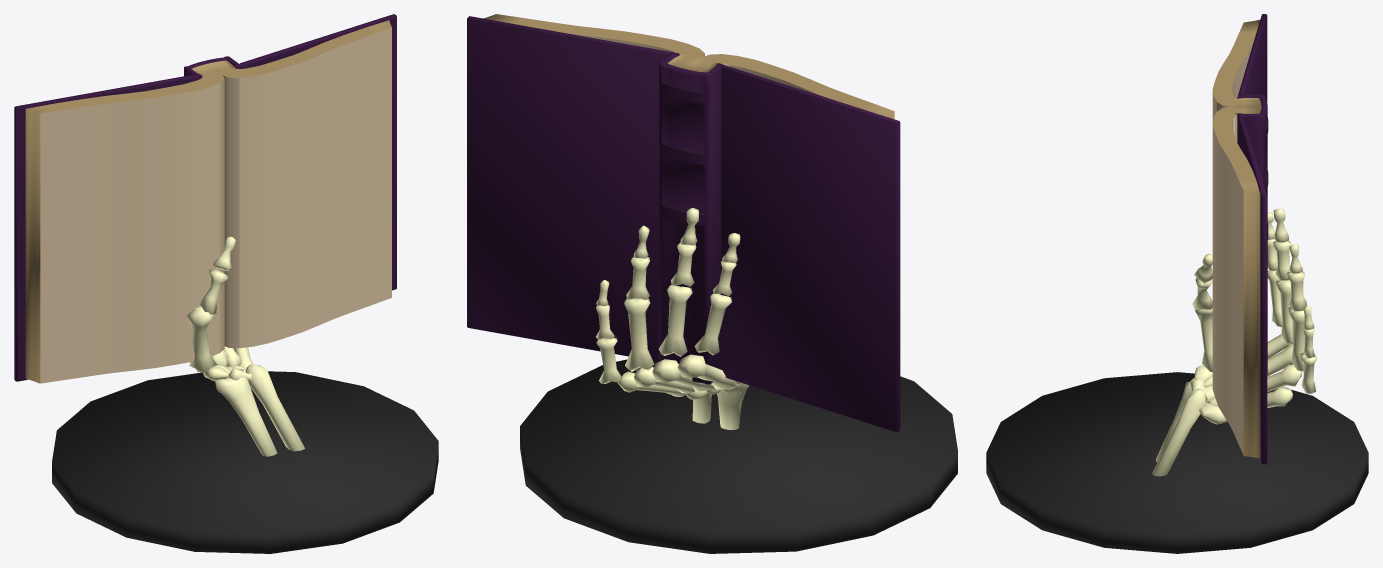
File: necronomicon.fbx
3 views of the same model, side by side, from view 1: azimuth 30°, elevation 25°; view 2: azimuth 150°, elevation 25°; view 3: azimuth 270°, elevation 25° (orthographic). The views are drawn at different scales.
Visible parts, largest first — view 1: Cylinder; view 2: Cylinder; view 3: Cylinder.
Part boxes in pixels (box(x1,y1,x2,y2)): Cylinder: box(14, 14, 438, 553); Cylinder: box(467, 14, 957, 553); Cylinder: box(986, 14, 1368, 553).
Size of the model in its own units: 24 by 22.74 by 21.27.
